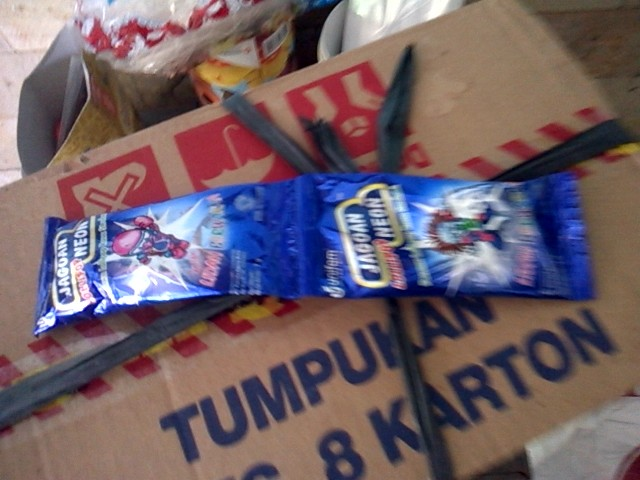jagoan neon: (34, 176, 295, 337), (294, 173, 595, 301)
